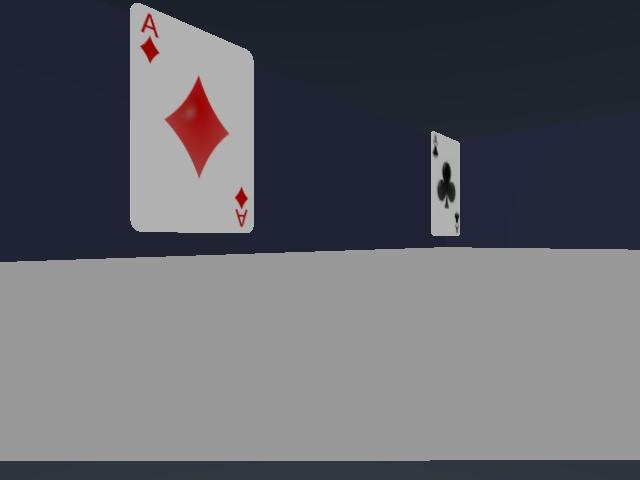club: (430, 132, 459, 235)
diamond: (130, 3, 253, 232)
